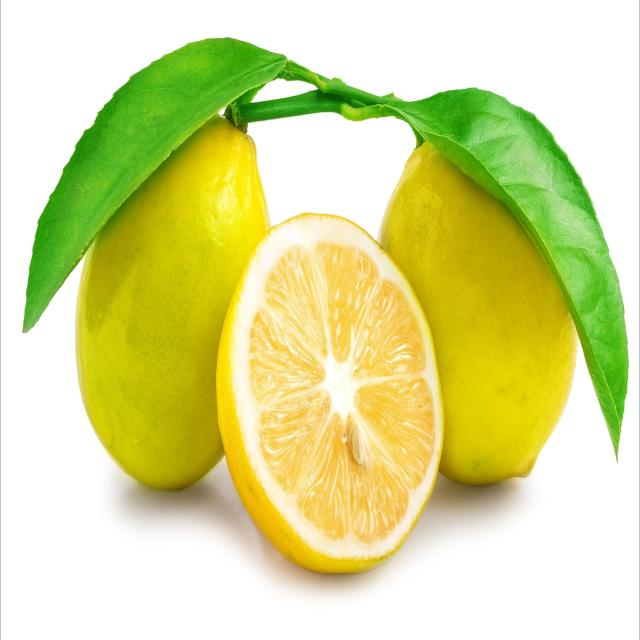lemon: (210, 207, 448, 581)
